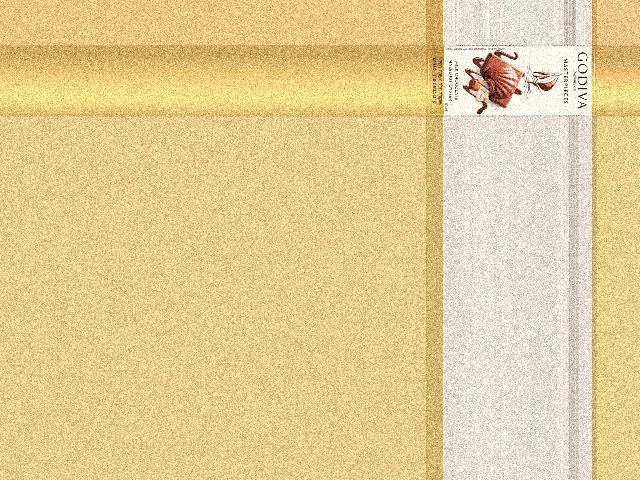chocolate: (426, 46, 596, 116)
